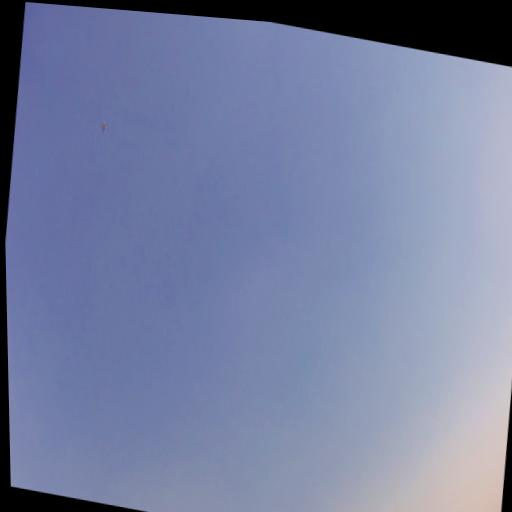drones: (97, 117, 111, 137)
